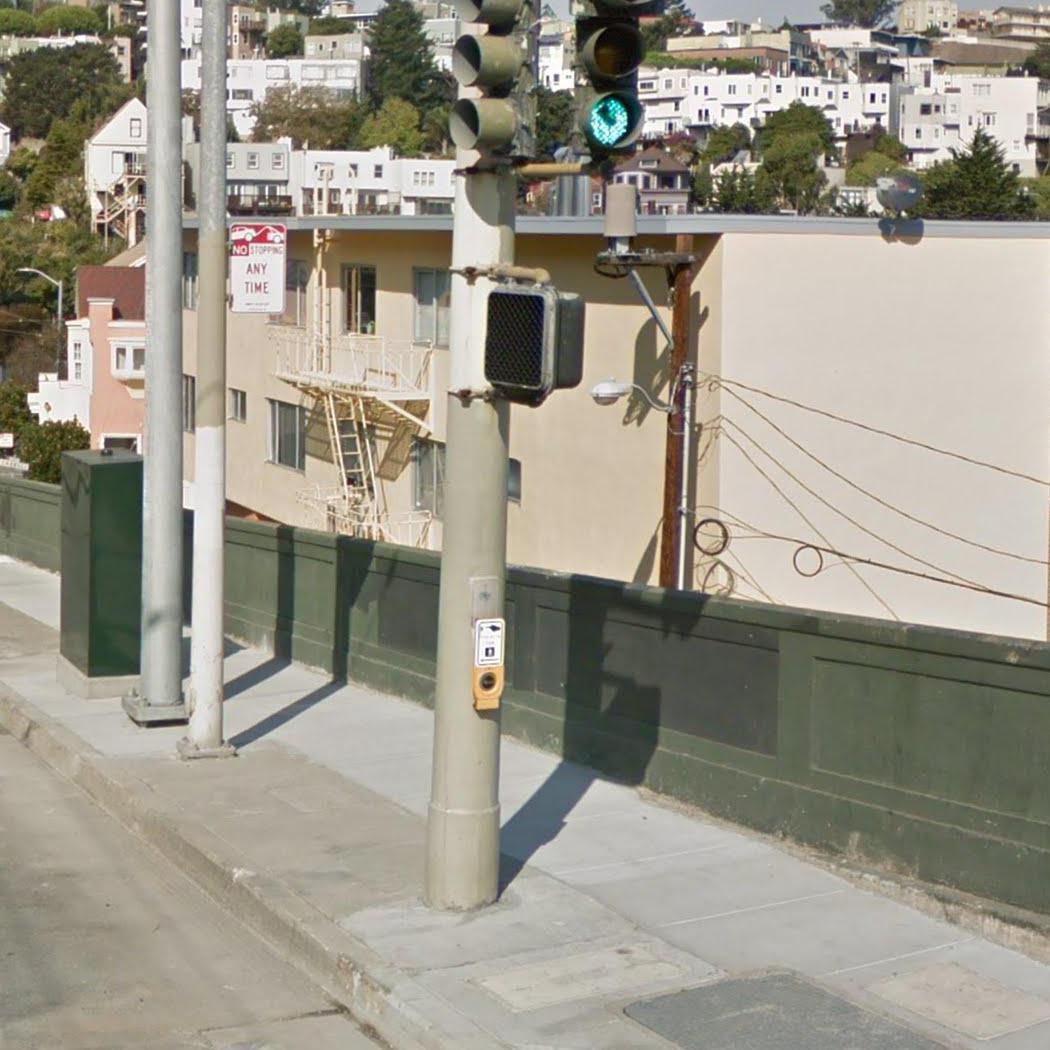No Parking Anytime: (227, 221, 288, 315)
